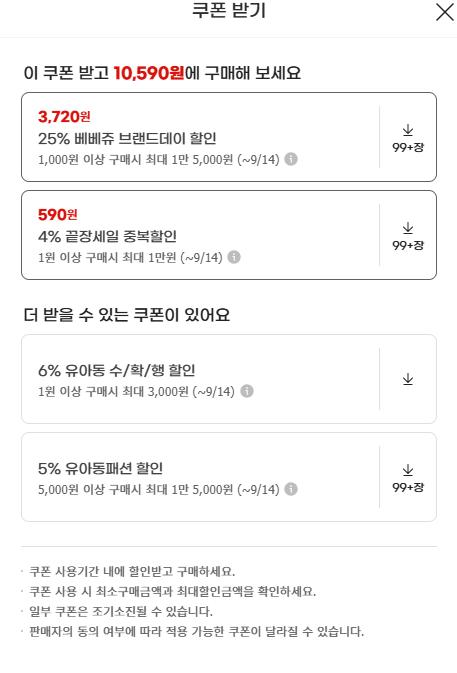button: (396, 217, 438, 258), (393, 118, 431, 153), (394, 457, 425, 495), (398, 356, 428, 387), (433, 0, 454, 26)
